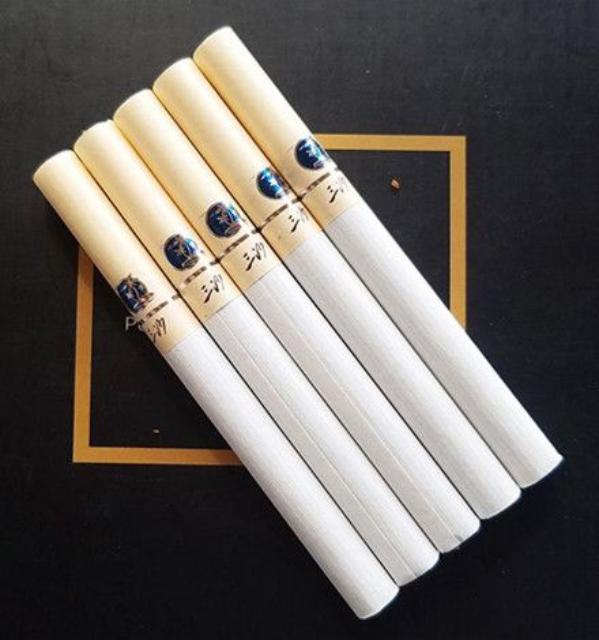Smoking: (34, 149, 402, 619), (151, 57, 523, 521), (193, 25, 565, 487), (74, 120, 441, 588), (112, 90, 482, 554)
